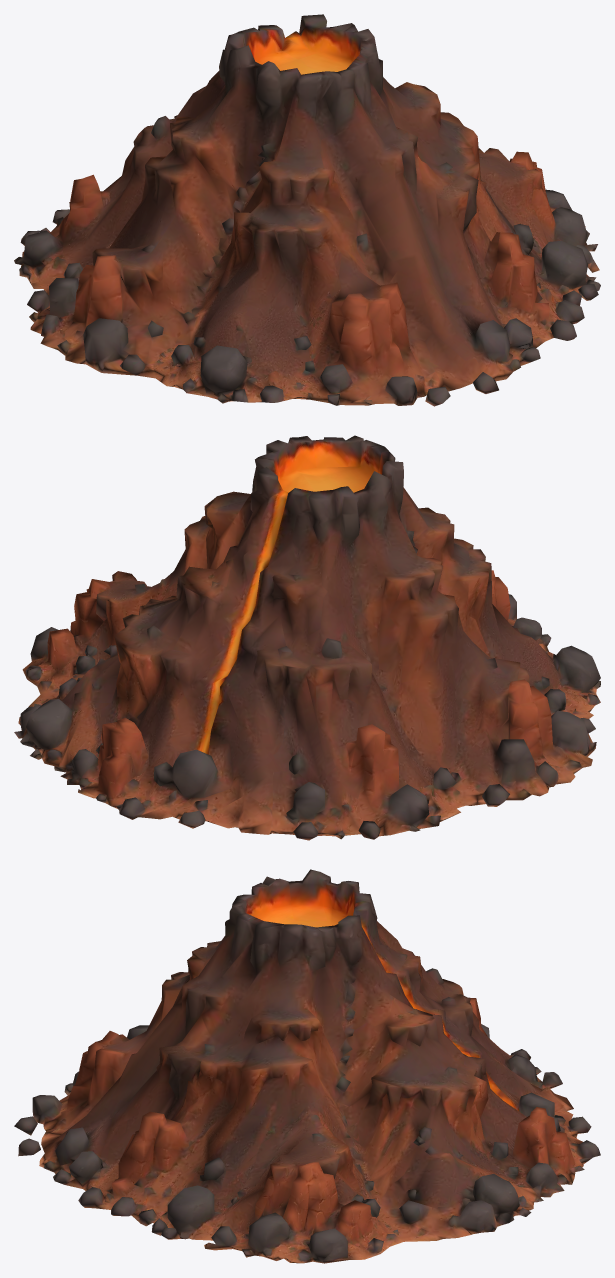
Rendered from vista-cinder-cone.glb.
3 renders of one model, top to bottom at view 1: azimuth 30°, elevation 25°; view 2: azimuth 150°, elevation 25°; view 3: azimuth 270°, elevation 25°, orthographic. The views are drawn at different scales.
Parts seen in each view (by area): view 1: tripo_node_b7cc409f-4e95-4757-9dfc-13e12c158277; view 2: tripo_node_b7cc409f-4e95-4757-9dfc-13e12c158277; view 3: tripo_node_b7cc409f-4e95-4757-9dfc-13e12c158277.
Boxes of the visible parts, bbox=[...] form: tripo_node_b7cc409f-4e95-4757-9dfc-13e12c158277: bbox=[14, 14, 600, 406]; tripo_node_b7cc409f-4e95-4757-9dfc-13e12c158277: bbox=[14, 435, 600, 840]; tripo_node_b7cc409f-4e95-4757-9dfc-13e12c158277: bbox=[14, 869, 600, 1263].
Bounding box in the file's own units: 0.9879 × 0.459 × 0.9989.
1 material, 1 textured.
